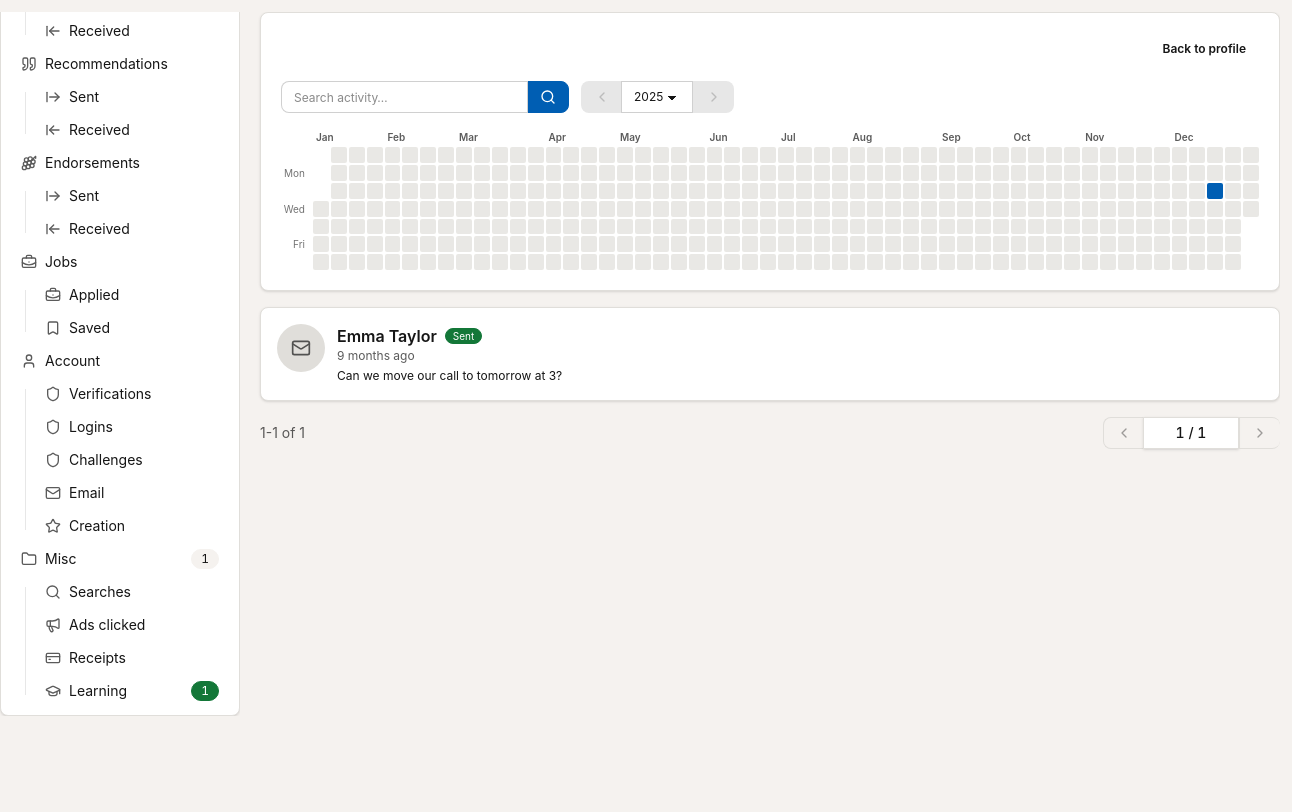
Test: ActivityPage › shows second-wave filters and applies message filtering
This screenshot has width=1292, height=812.
(page scrolled)
expect the heading "Emma Taylor" is shown: met, box [337,324,437,348]
expect the text "Can we move our call to tomorrow at 3?" is shown: met, box [337,368,562,384]
Click the button "Learning 1" at point(132, 690), box [33,674,231,707]
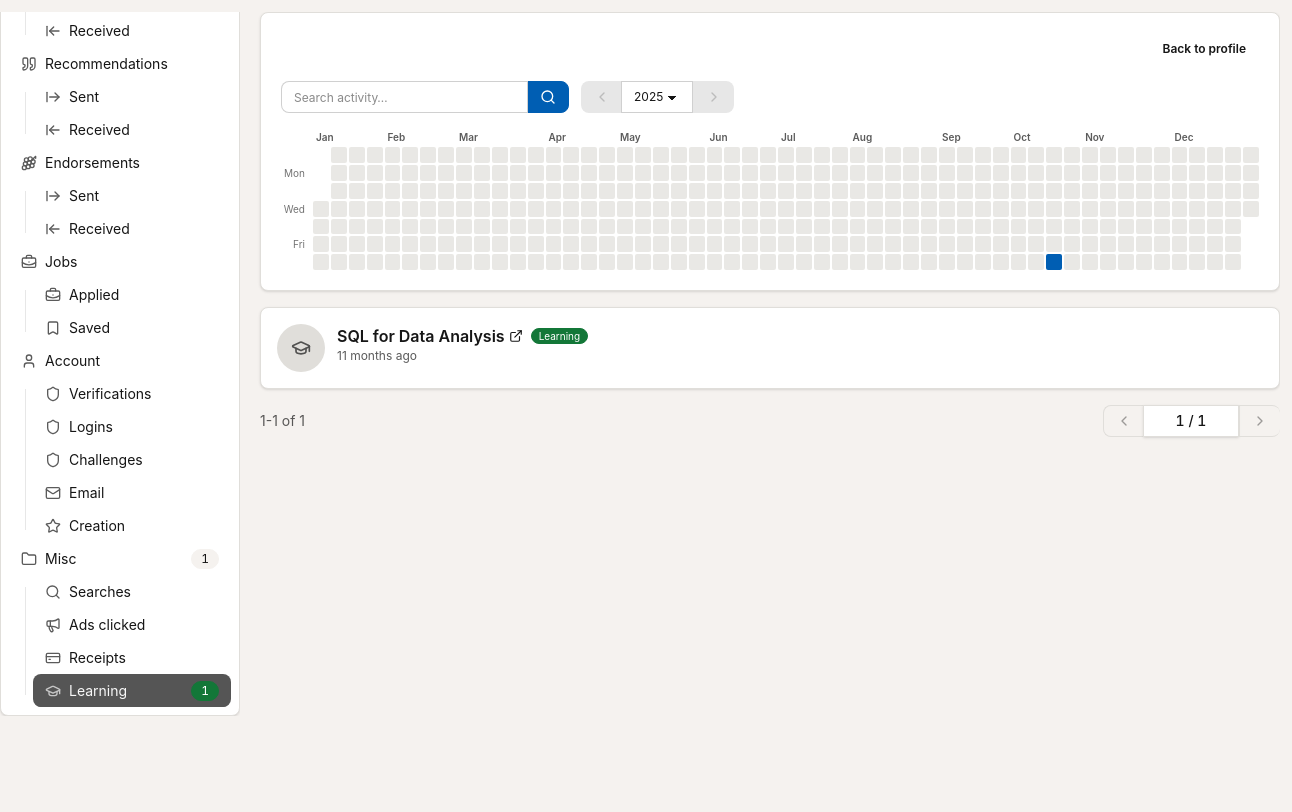
expect the text "SQL for Data Analysis" is shown: met, box [337,324,505,348]
expect the text "Can we move our call to tomorrow at 3?" is gone: met
